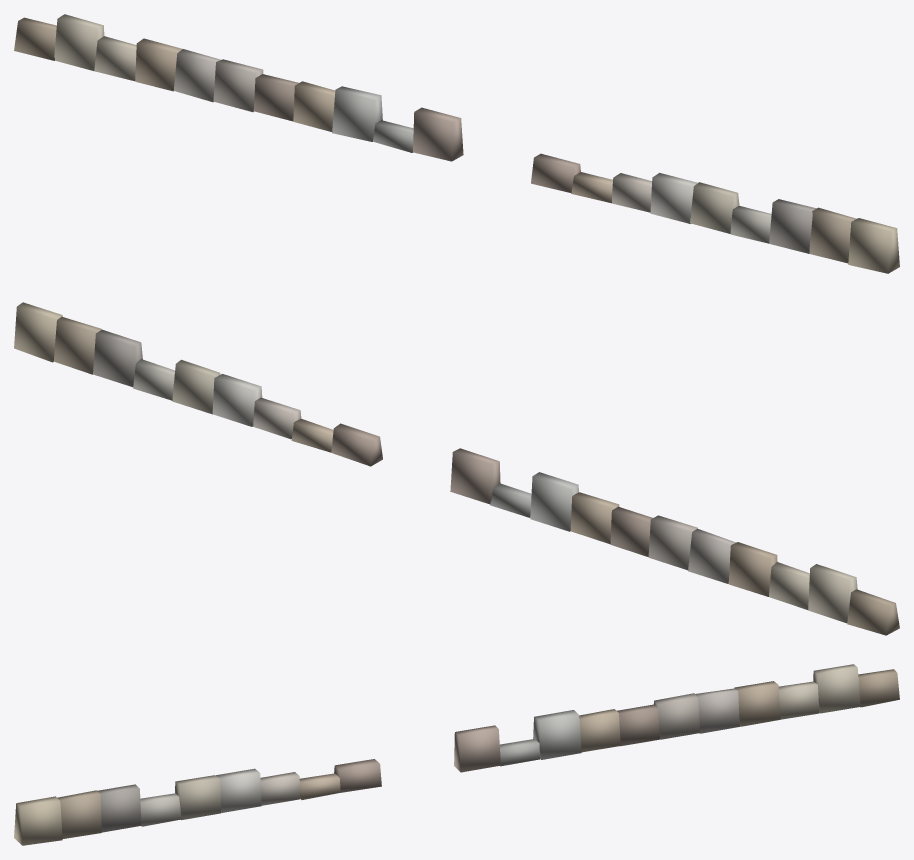
File: farm_1_9_far.glb
3 renders of one model, top to bottom at view 1: azimuth 30°, elevation 25°; view 2: azimuth 210°, elevation 25°; view 3: azimuth 270°, elevation 25°, orthographic. The views are drawn at different scales.
Parts seen in each view (by area): view 1: geometry_0; view 2: geometry_0; view 3: geometry_0.
Boxes of the visible parts, left/top/right/bottom form: geometry_0: left=14, top=14, right=899, bottom=273; geometry_0: left=14, top=302, right=899, bottom=635; geometry_0: left=14, top=664, right=899, bottom=845.
Size of the model in its own units: 15.68 by 2.65 by 32.09.
